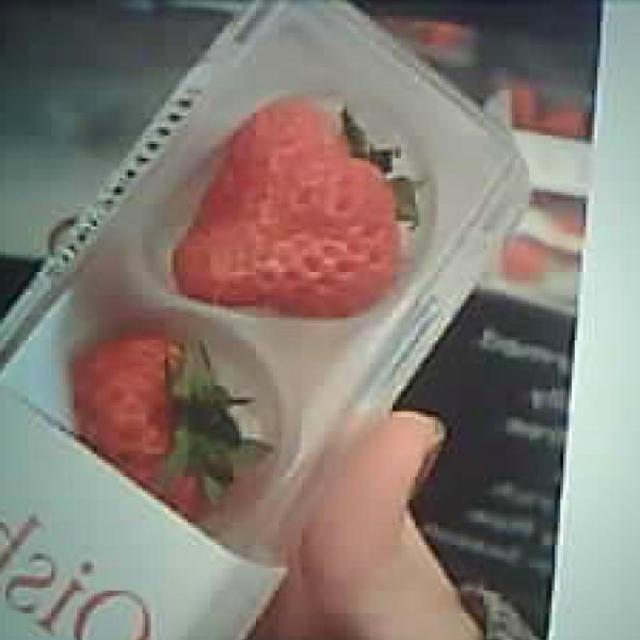Healthy Fruit: (170, 95, 404, 318), (66, 326, 243, 518)
